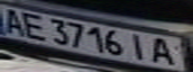1: (81, 25, 106, 53)
3: (42, 17, 72, 46)
6: (103, 28, 127, 57)
7: (63, 20, 87, 48)
A: (148, 35, 181, 66), (0, 7, 27, 36)
E: (18, 11, 51, 40)
I: (124, 32, 151, 61)
